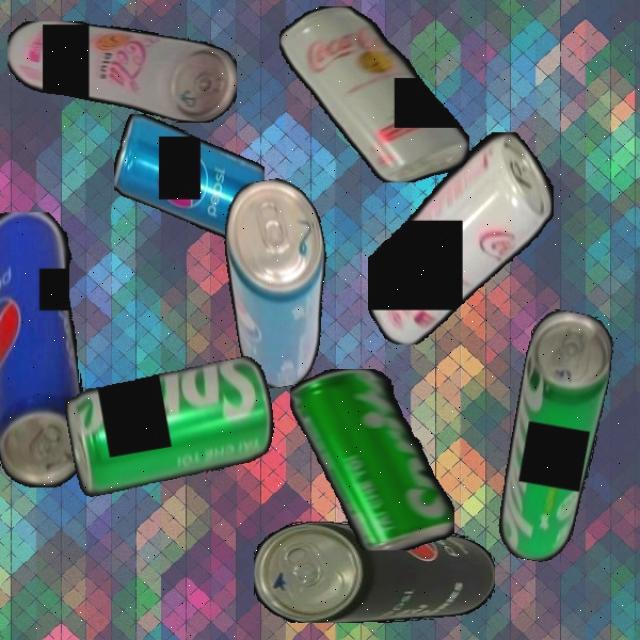debris: (367, 131, 554, 345), (280, 6, 470, 182), (492, 306, 618, 568), (62, 354, 281, 498), (290, 368, 455, 550), (212, 173, 348, 392), (254, 520, 495, 623), (6, 21, 237, 123), (0, 211, 84, 487), (113, 113, 265, 242)
